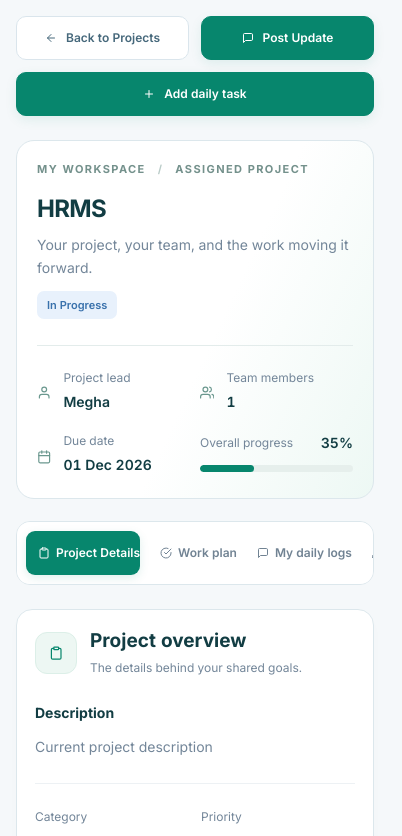
it: assigned employee project workspace › keeps work plan available and historical logs read only
Expected: the heading "HRMS" is shown, left=37, top=194, right=106, bottom=222
Click the tab "Work plan": [192, 553] box left=148, top=531, right=237, bottom=575
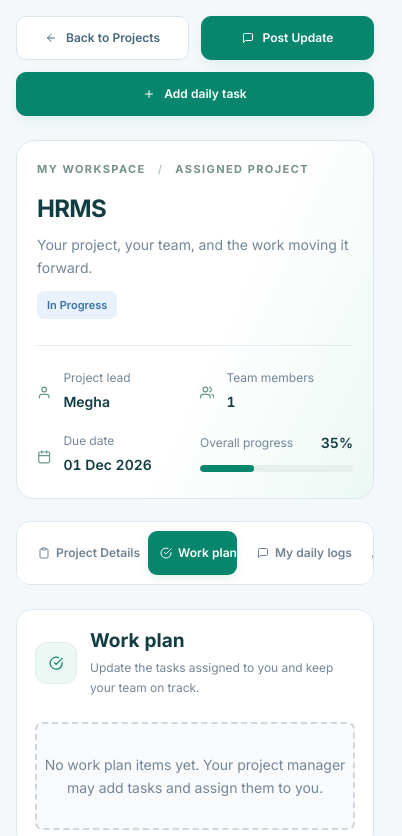
Expected: the tab "Work plan" is selected, left=148, top=531, right=237, bottom=575
Click the tab "My daily logs": [298, 553] box left=245, top=531, right=352, bottom=575
(page scrolled)
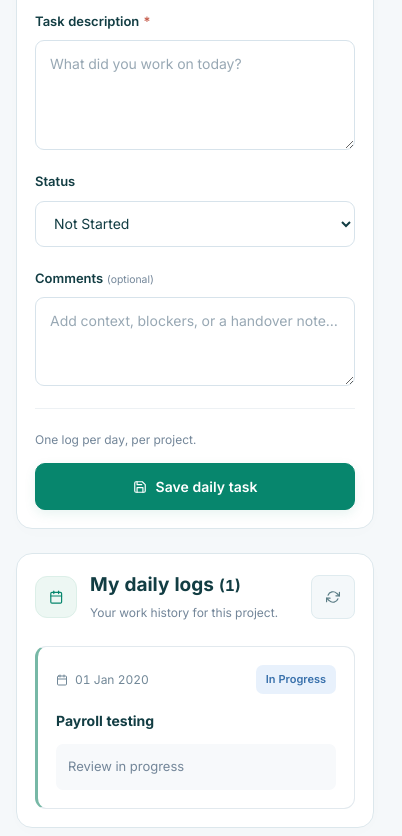
Expected: the heading "Payroll testing" is shown, left=56, top=712, right=154, bottom=729
